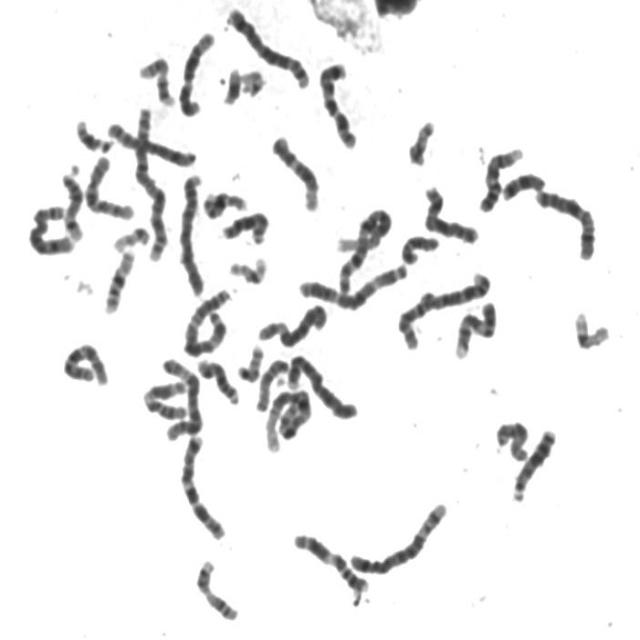A1: (332, 201, 396, 297), (259, 383, 314, 455)
A2: (393, 264, 495, 352), (128, 98, 172, 263)
A3: (294, 257, 411, 311), (178, 281, 234, 358)
B4: (282, 347, 360, 422), (174, 167, 208, 297)
B5: (343, 495, 450, 577), (222, 1, 312, 91)
C10: (80, 149, 137, 222), (58, 336, 110, 387)
C11: (288, 526, 372, 595), (138, 374, 190, 421)
C12: (267, 128, 322, 212), (174, 23, 218, 118)
C6: (157, 352, 205, 443), (253, 297, 329, 349)
C7: (174, 427, 228, 542), (313, 54, 360, 150)
C8: (101, 115, 199, 168), (23, 199, 77, 257)
C9: (475, 140, 526, 214), (450, 295, 500, 361)
D13: (506, 421, 558, 503), (216, 204, 272, 247)
D14: (192, 353, 241, 406), (56, 162, 86, 242)
D15: (251, 352, 292, 413), (491, 414, 532, 463)
E16: (98, 242, 138, 316), (198, 185, 248, 221)
E17: (191, 553, 241, 623), (134, 51, 177, 108)
E18: (497, 165, 548, 202), (396, 228, 442, 266)
F19: (568, 304, 612, 352), (224, 250, 269, 286)
F20: (403, 114, 437, 167), (232, 339, 266, 384)
G21: (70, 112, 116, 154), (217, 60, 244, 107)
G22: (108, 220, 152, 254), (235, 62, 268, 98)
X: (529, 183, 599, 262), (418, 179, 480, 246)
